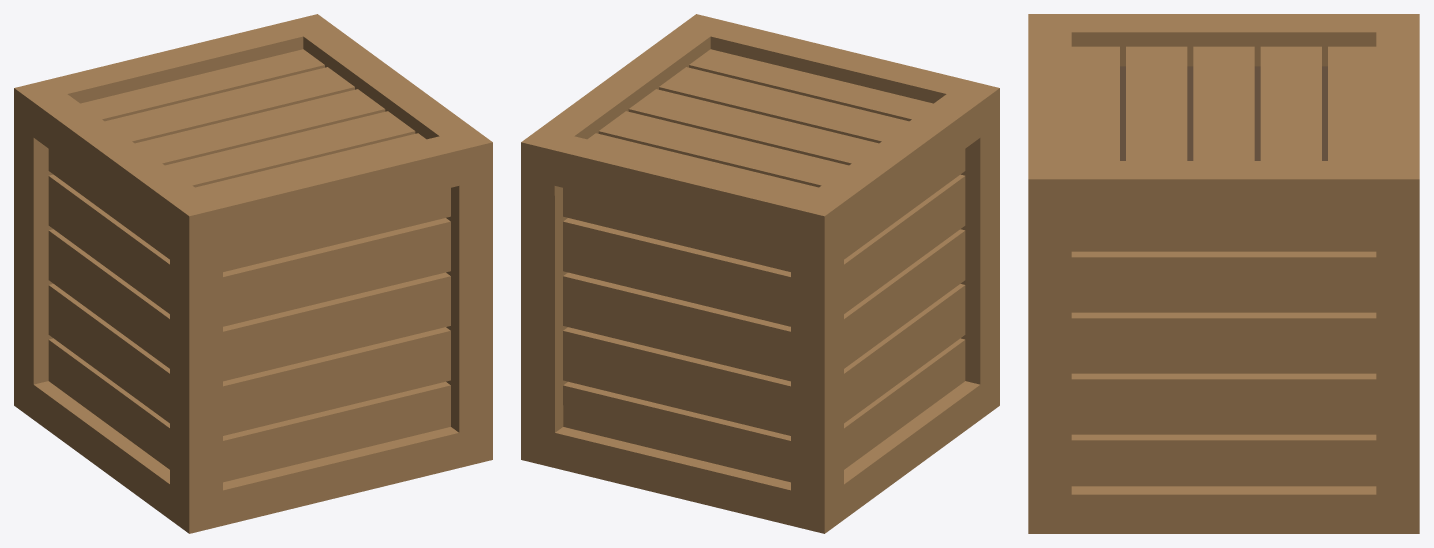
File: boite_bois.fbx
3 views of the same model, side by side, from view 1: azimuth 30°, elevation 25°; view 2: azimuth 150°, elevation 25°; view 3: azimuth 270°, elevation 25° (orthographic). The views are drawn at different scales.
Parts seen in each view (by area): view 1: Cube.002; view 2: Cube.002; view 3: Cube.002.
Boxes of the visible parts, x1,y1,x2,y2 form: Cube.002: (14,14,492,533); Cube.002: (521,14,999,533); Cube.002: (1028,14,1419,533).
Size of the model in its own units: 90.01 by 90.01 by 90.
